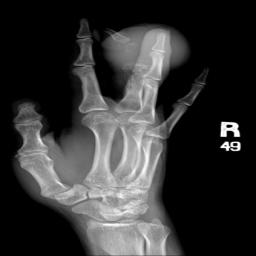cancer: (105, 25, 184, 94)
